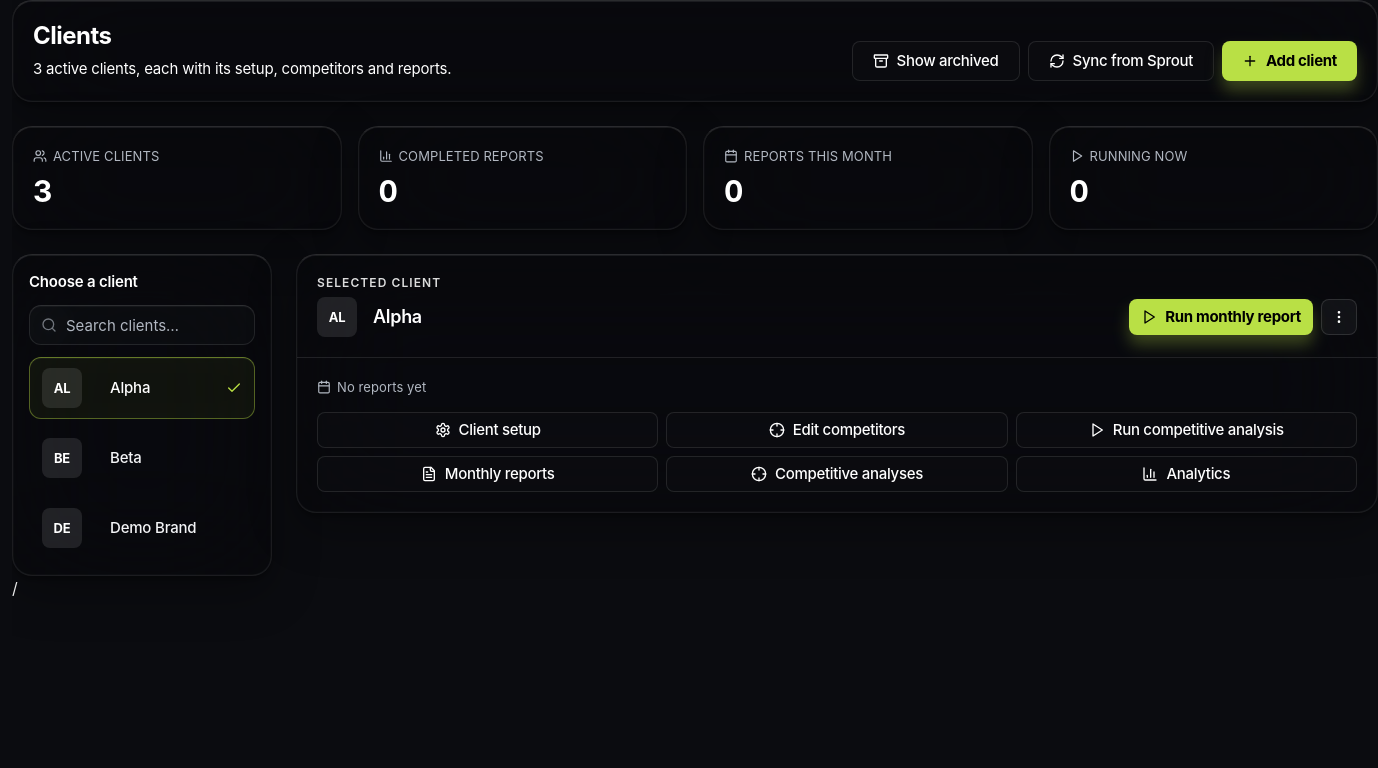
Scenario: dashboard: a client an API demo created carries a Demo badge, the others do not
What coordinates should you click on to do the following:
click the button "DE Demo Brand"
I would click on:
 (142, 528)
Its box is [29, 497, 255, 559].
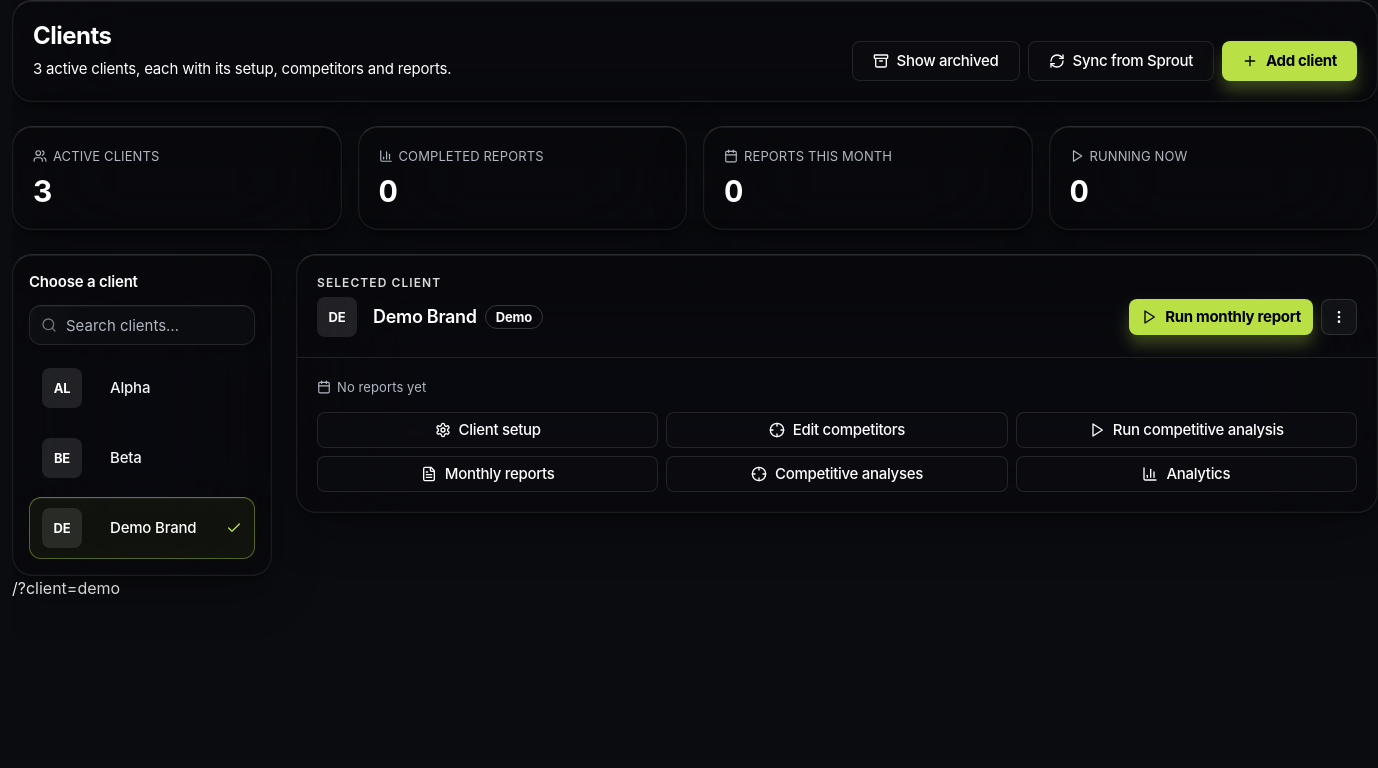
Now the button with aria-label "Open Demo Brand client setup" is shown, box [373, 305, 477, 329]
